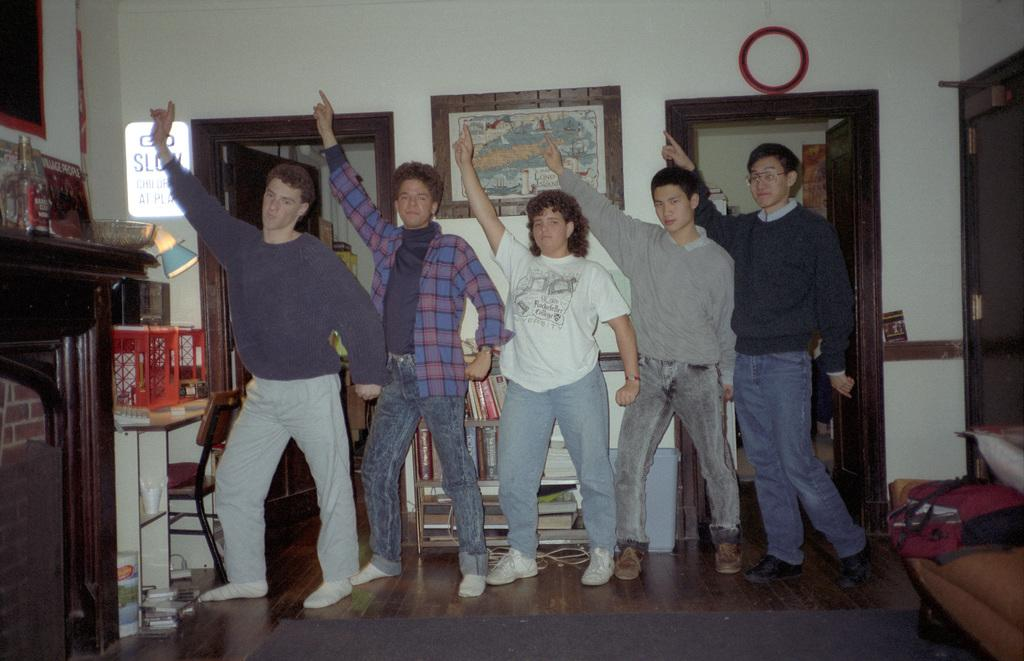Sem Máscara: (260, 174, 296, 225), (746, 155, 782, 202), (395, 178, 429, 221), (529, 204, 564, 244), (656, 186, 686, 228)
